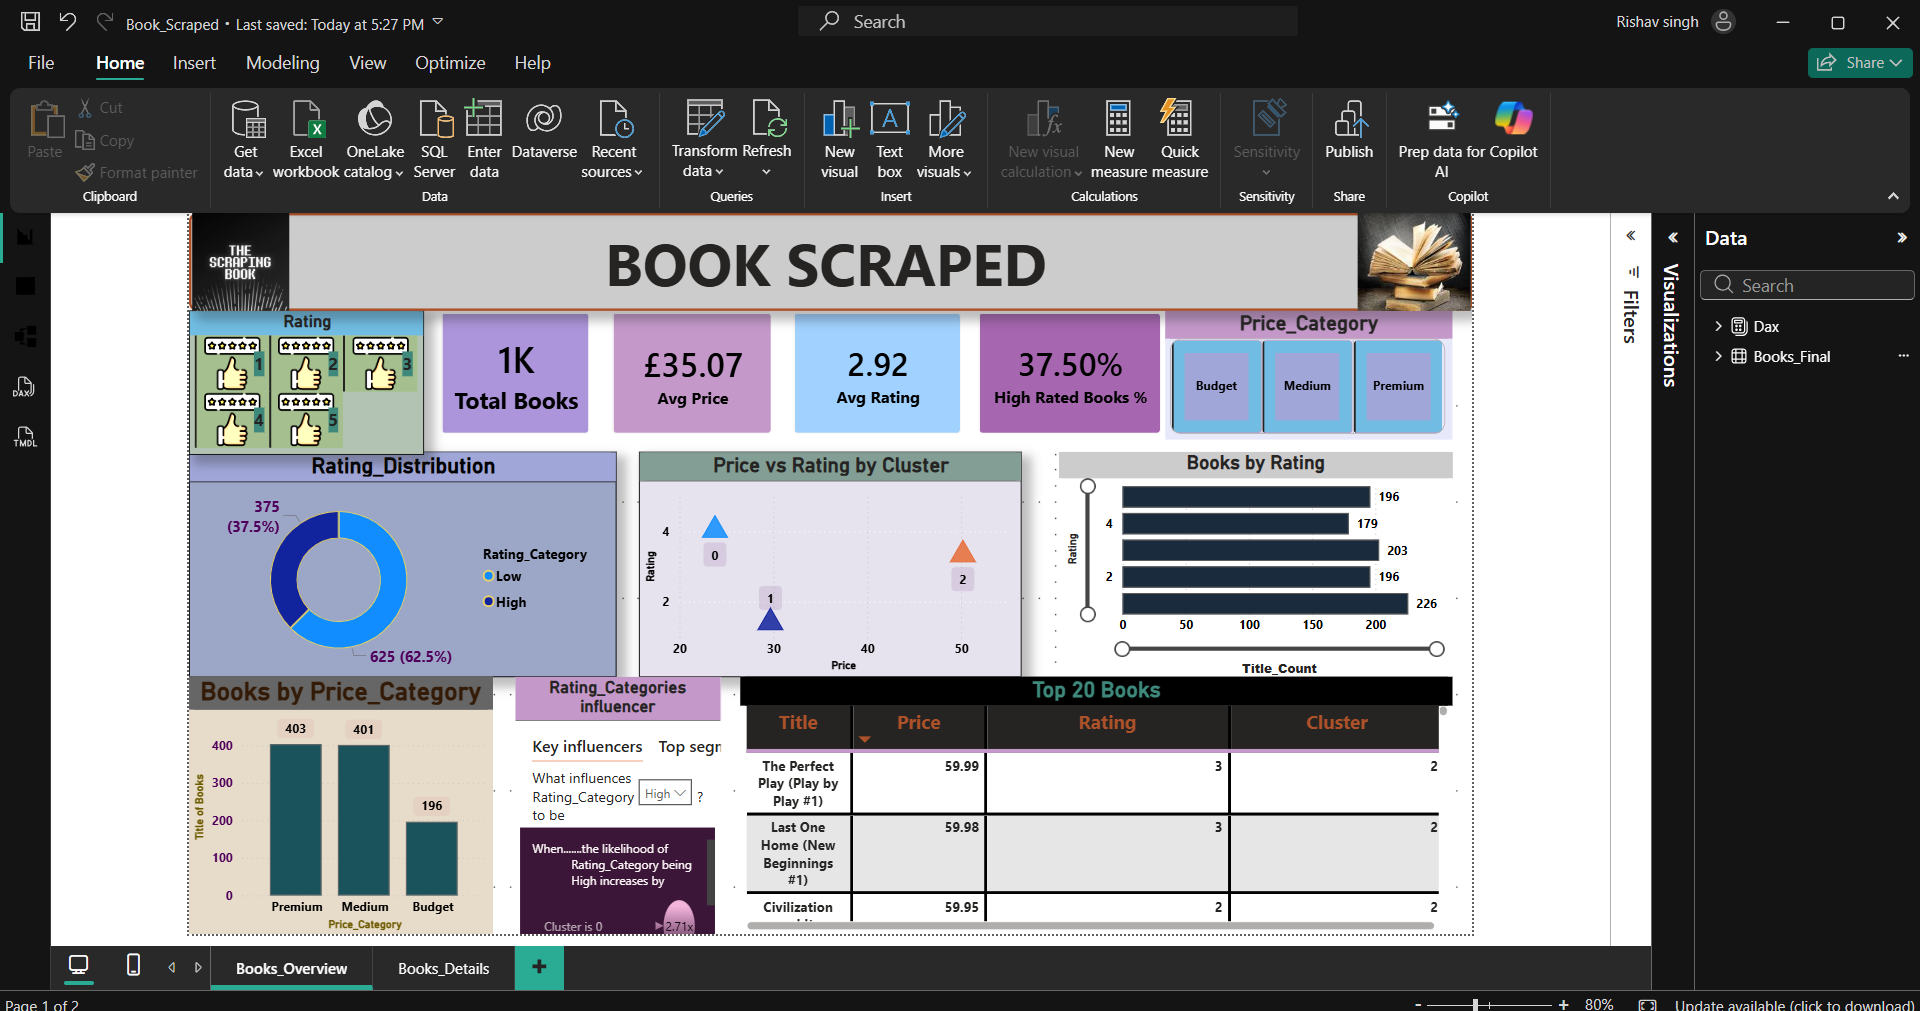

Layout of this report page (visuals, bound fields, positions):
{"tool":"powerbi","page":{"name":"Books_Overview","canvas":[1280,720],"ordinal":0},"visuals":[{"type":"cardVisual","fields":{"Data":["Dax.Total Books"]},"box":[234.7,82.5,182,155],"z":0},{"type":"cardVisual","fields":{"Data":["Dax.Avg Price"]},"box":[405.3,82.5,193.4,155],"z":1000},{"type":"cardVisual","fields":{"Data":["Dax.Avg Rating"]},"box":[586,82.5,202,155],"z":2000},{"type":"cardVisual","fields":{"Data":["Dax.High Rated Books %"]},"box":[770.8,82.5,216.2,155],"z":3000},{"type":"donutChart","title":"Rating_Distribution","fields":{"Y":["CountNonNull(Books_Final.Rating_Category)"],"Category":["Books_Final.Rating_Category"]},"box":[0,238.1,426.4,224.4],"z":4000},{"type":"clusteredBarChart","title":"Books by Rating","fields":{"Category":["Books_Final.Rating"],"Y":["CountNonNull(Books_Final.Title)"]},"box":[867.7,238.1,392.7,224.4],"z":5000},{"type":"scatterChart","title":"Price vs Rating by Cluster","fields":{"X":["Avg(Books_Final.Price)"],"Y":["Avg(Books_Final.Rating)"],"Category":["Books_Final.Cluster"]},"box":[448.8,238.1,381.5,224.4],"z":6000},{"type":"clusteredColumnChart","title":"Books by Price_Category","fields":{"Category":["Books_Final.Price_Category"],"Y":["CountNonNull(Books_Final.Title)"]},"box":[0,462.5,303,258.1],"z":7000},{"type":"tableEx","title":"Top 20 Books","fields":{"Values":["Books_Final.Title","Books_Final.Price","Books_Final.Rating","Books_Final.Cluster"]},"box":[549.8,462.5,710.6,258.1],"z":8000},{"type":"advancedSlicerVisual","fields":{"Values":["Books_Final.Rating"]},"box":[0,96.7,234.7,143.6],"z":9000},{"type":"advancedSlicerVisual","fields":{"Values":["Books_Final.Price_Category"]},"box":[973.7,97.2,286.8,128.4],"z":10000},{"type":"keyDriversVisual","title":"Rating_Categories influencer","fields":{"Target":["Books_Final.Rating_Category"],"ExplainBy":["Books_Final.Price_Category","Books_Final.Price","Books_Final.Cluster"]},"box":[325.4,462.5,204.5,256.8],"z":11000},{"type":"textbox","box":[0,0,1280.4,97.2],"z":12000},{"type":"image","box":[0,0,103.5,97.2],"z":13000},{"type":"image","box":[1163.2,0,117.2,97.2],"z":14000}]}

Visuals, with their boxes on the page's 1280x720 design canvas (x1, y1, x2, y2). These are canvas units, not pixel positions in the 1920x1011 screenshot, which may show the page scaled, cropped or inside an application window:
cardVisual - Dax.Total Books: [x1=235, y1=82, x2=417, y2=238]
cardVisual - Dax.Avg Price: [x1=405, y1=82, x2=599, y2=238]
cardVisual - Dax.Avg Rating: [x1=586, y1=82, x2=788, y2=238]
cardVisual - Dax.High Rated Books %: [x1=771, y1=82, x2=987, y2=238]
"Rating_Distribution" donutChart: [x1=0, y1=238, x2=426, y2=462]
"Books by Rating" clusteredBarChart: [x1=868, y1=238, x2=1260, y2=462]
"Price vs Rating by Cluster" scatterChart: [x1=449, y1=238, x2=830, y2=462]
"Books by Price_Category" clusteredColumnChart: [x1=0, y1=462, x2=303, y2=721]
"Top 20 Books" tableEx: [x1=550, y1=462, x2=1260, y2=721]
advancedSlicerVisual - Books_Final.Rating: [x1=0, y1=97, x2=235, y2=240]
advancedSlicerVisual - Books_Final.Price_Category: [x1=974, y1=97, x2=1260, y2=226]
"Rating_Categories influencer" keyDriversVisual: [x1=325, y1=462, x2=530, y2=719]
textbox: [x1=0, y1=0, x2=1280, y2=97]
image: [x1=0, y1=0, x2=104, y2=97]
image: [x1=1163, y1=0, x2=1280, y2=97]
